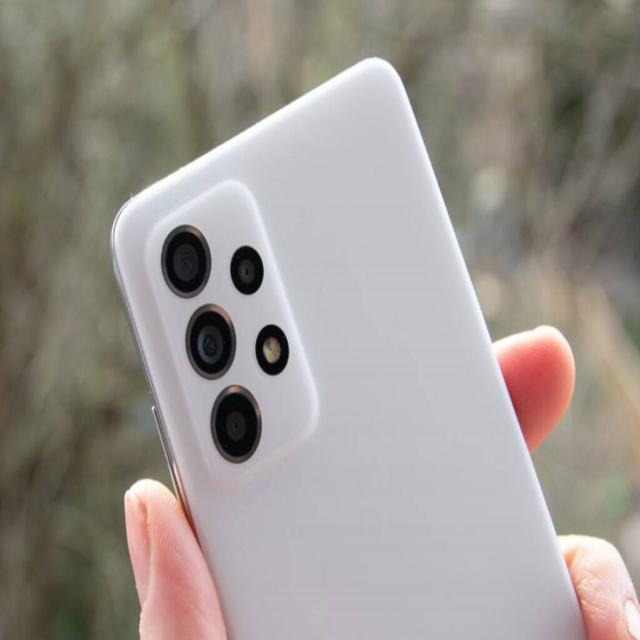Mobile: (104, 54, 590, 638)
